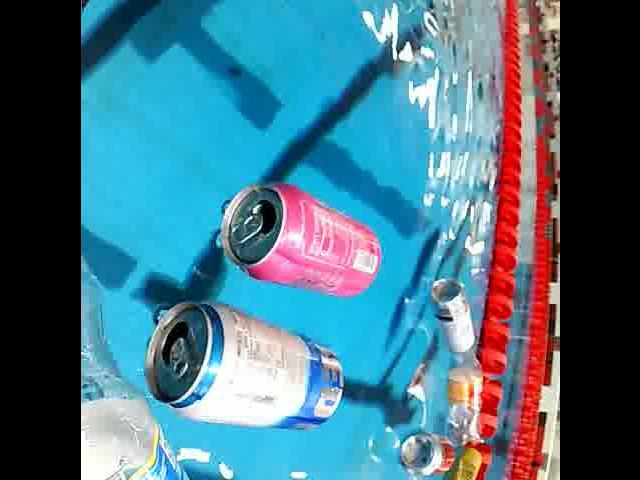Bottle: (80, 242, 213, 480), (442, 342, 484, 448)
Can: (138, 300, 348, 436), (214, 168, 384, 306), (423, 271, 478, 358), (390, 428, 458, 480), (437, 444, 481, 480)
